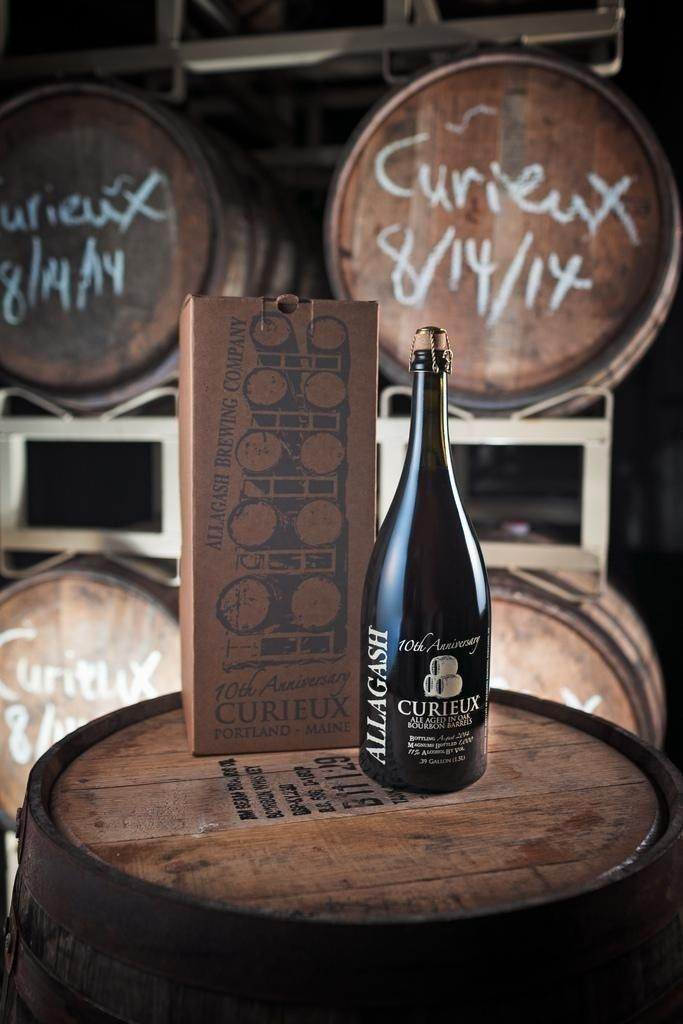bottle-glass: (356, 324, 495, 796)
